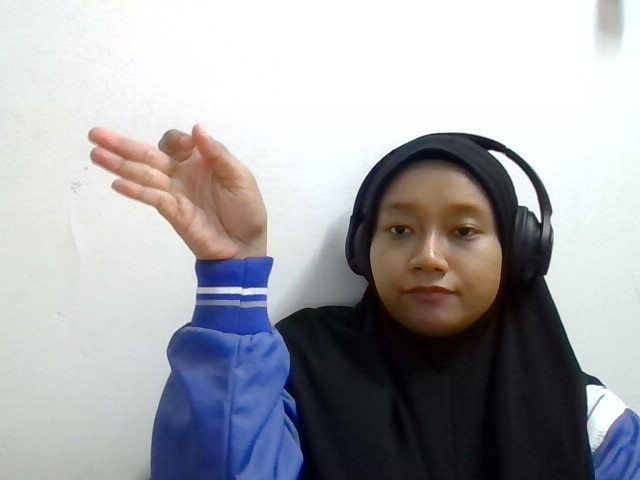Angsa: (88, 123, 269, 257)
